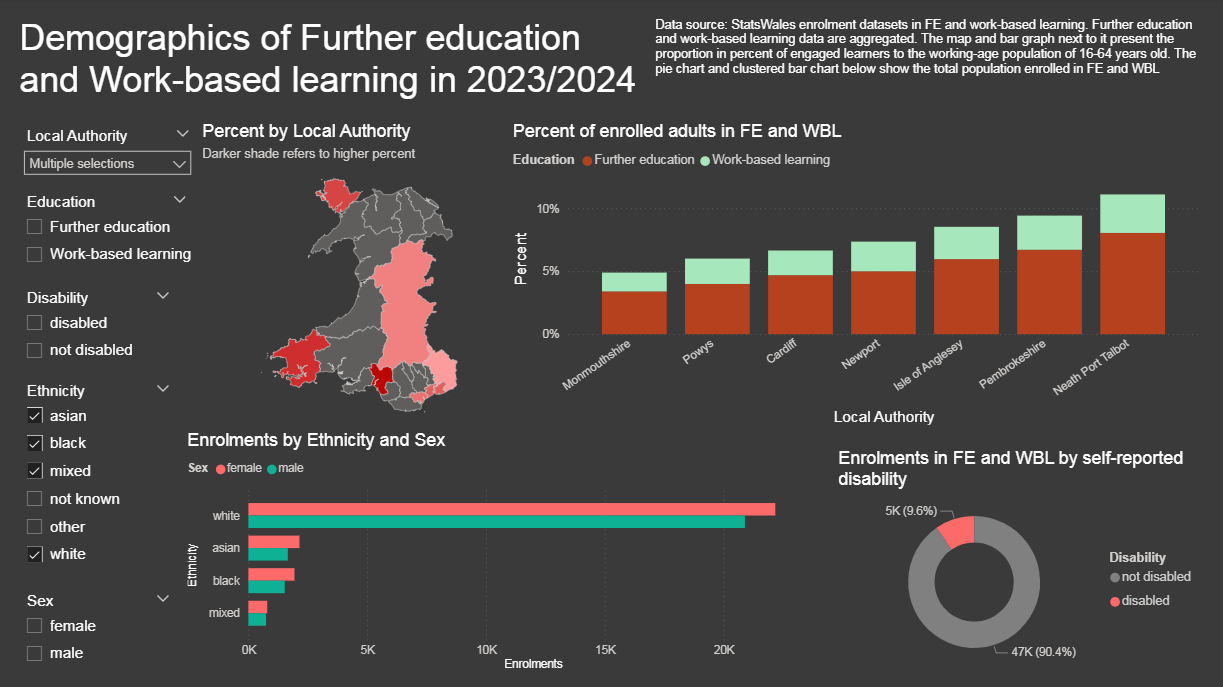

The page's visual inventory and layout, read from the dashboard file:
{"tool":"powerbi","page":{"name":"Page 2","canvas":[1280,720],"ordinal":1},"visuals":[{"type":"donutChart","title":"Enrolments in FE and WBL by self-reported disability","fields":{"Category":["export (2).disability"],"Y":["Sum(export (2).Value)"]},"box":[873.1,470.6,387.4,236.2],"z":0},{"type":"textbox","box":[20.7,15.9,661.7,101.8],"z":1000},{"type":"slicer","fields":{"Values":["export (2).region"]},"box":[20.7,130.4,194.1,63.6],"z":2000},{"type":"slicer","fields":{"Values":["export (2).gender"]},"box":[20.7,614,173.4,92.3],"z":3000},{"type":"slicer","fields":{"Values":["export (2).ethnicity"]},"box":[20.7,396.1,173.4,217.9],"z":4000},{"type":"slicer","fields":{"Values":["export (2).disability"]},"box":[20.7,299,173.4,97],"z":5000},{"type":"shapeMap","title":"Percent by Local Authority","fields":{"Category":["export (2).region"],"Value":["Sum(export (2).Column)"]},"box":[211.6,130.4,322.9,321.3],"z":6000},{"type":"slicer","fields":{"Values":["export (2).Education"]},"box":[20.7,198.8,190.9,100.2],"z":7000},{"type":"columnChart","title":"Percent of enrolled adults in FE and WBL","fields":{"Category":["export (2).region"],"Y":["Sum(export (2).Column)"],"Series":["export (2).Education"]},"box":[534.8,130.4,725.7,321.3],"z":8000},{"type":"clusteredBarChart","fields":{"Category":["export (2).ethnicity"],"Series":["export (2).gender"],"Y":["Sum(export (2).Value)"]},"box":[194.6,451.7,678.4,255.1],"z":9000},{"type":"textbox","box":[682.4,15.9,577.4,114.5],"z":10000}]}

Visuals, with their boxes in screenshot pixels (x1, y1, x2, y2), scaled from the page's 1280x720 canvas onto the 1223x687 screenshot:
"Enrolments in FE and WBL by self-reported disability" donutChart: pyautogui.locateOnScreen(834, 449, 1204, 674)
textbox: pyautogui.locateOnScreen(20, 15, 652, 112)
slicer - export (2).region: pyautogui.locateOnScreen(20, 124, 205, 185)
slicer - export (2).gender: pyautogui.locateOnScreen(20, 586, 185, 674)
slicer - export (2).ethnicity: pyautogui.locateOnScreen(20, 378, 185, 586)
slicer - export (2).disability: pyautogui.locateOnScreen(20, 285, 185, 378)
"Percent by Local Authority" shapeMap: pyautogui.locateOnScreen(202, 124, 511, 431)
slicer - export (2).Education: pyautogui.locateOnScreen(20, 190, 202, 285)
"Percent of enrolled adults in FE and WBL" columnChart: pyautogui.locateOnScreen(511, 124, 1204, 431)
clusteredBarChart - export (2).ethnicity x export (2).gender: pyautogui.locateOnScreen(186, 431, 834, 674)
textbox: pyautogui.locateOnScreen(652, 15, 1204, 124)
